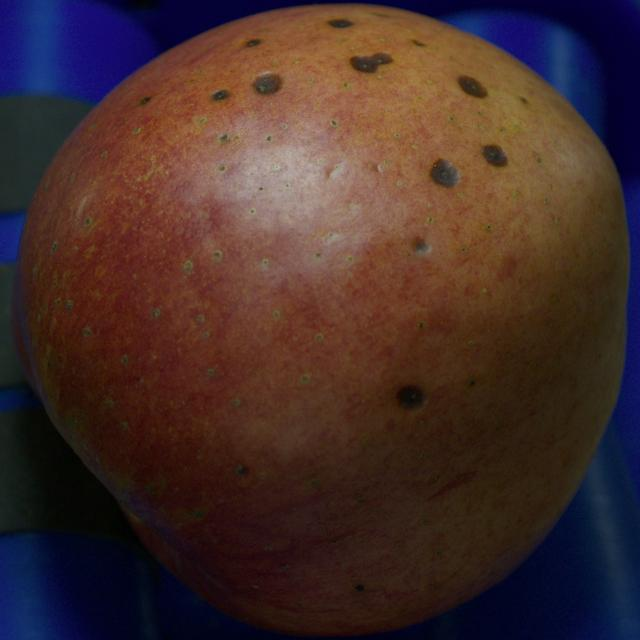apple: (13, 4, 629, 634)
pest: (350, 52, 392, 72), (430, 159, 459, 187), (397, 386, 426, 409), (458, 76, 487, 98), (254, 72, 281, 94), (482, 146, 508, 166), (412, 239, 431, 254), (328, 19, 352, 28), (212, 89, 228, 100), (246, 39, 261, 46), (141, 96, 151, 104), (413, 39, 426, 45), (519, 96, 528, 104), (237, 466, 247, 473)
